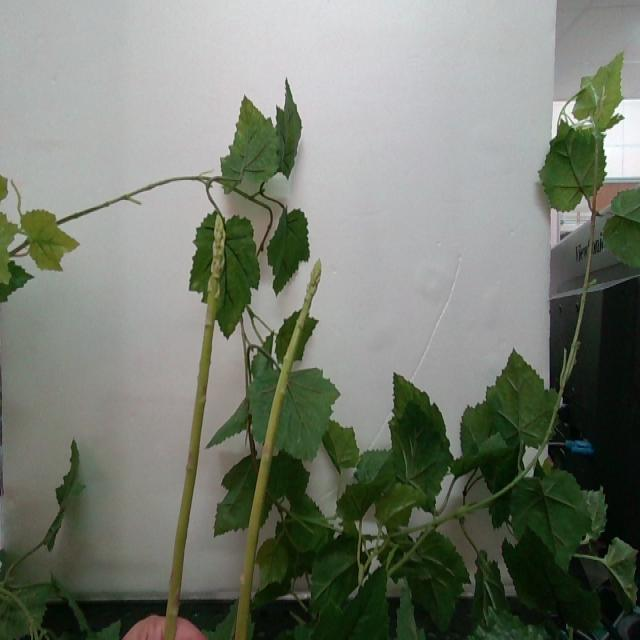aspargus: (234, 256, 322, 640), (163, 214, 226, 640)
